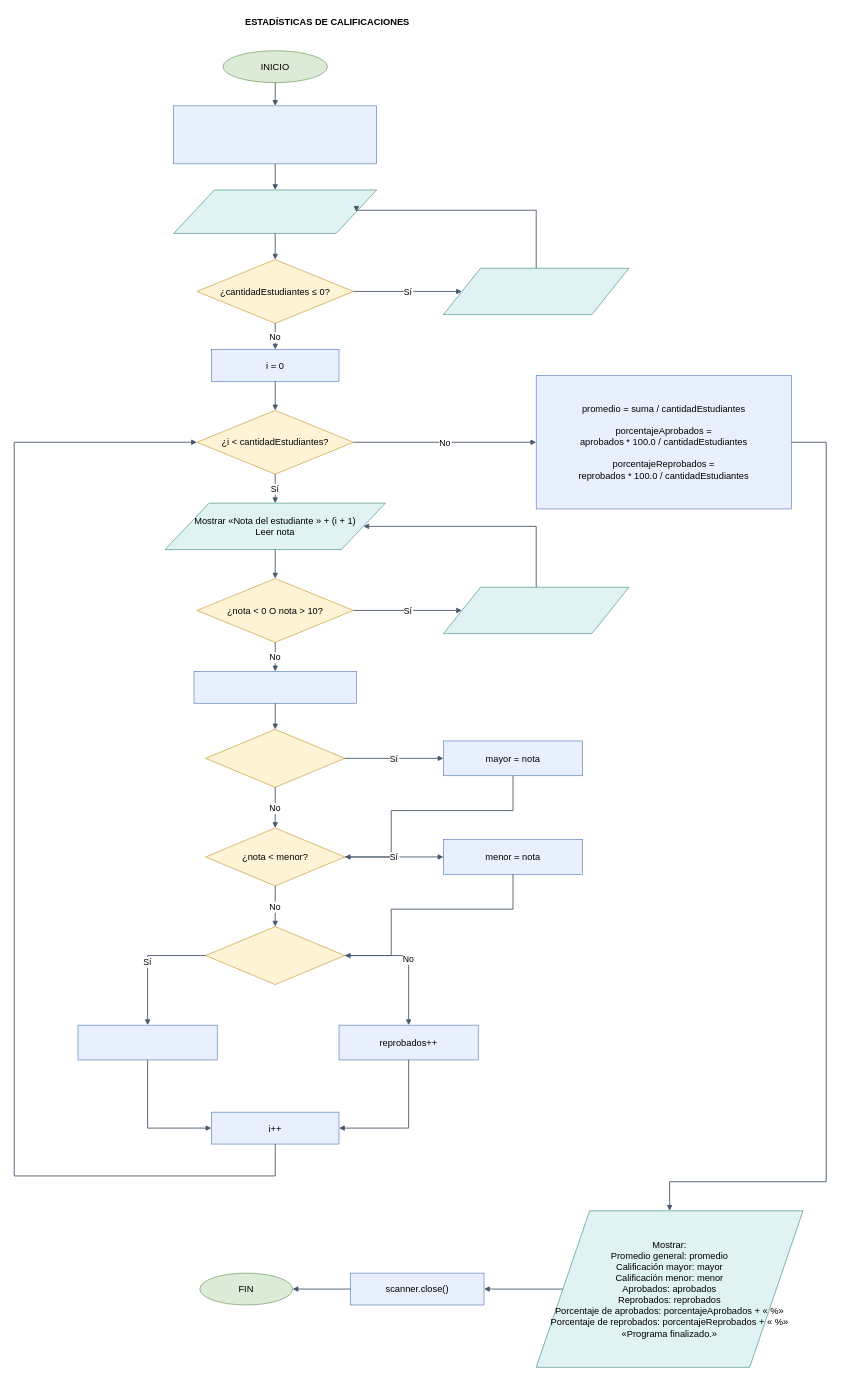
This 842x1378 diagram has some shape labels left out. The centre of each missing label's shape, as x and y in pixels:
aprobados++: pixel 147 1042
Crear Scanner aprobados = 0; reprobados = 0 suma = 0; mayor = 0; menor = 10: pixel 275 134
Mostrar «Cantidad de estudiantes» Leer cantidadEstudiantes: pixel 275 211
Mostrar «La cantidad debe ser mayor que cero.»: pixel 536 291
Mostrar «La nota debe estar entre 0 y 10.»: pixel 536 610
suma = suma + nota: pixel 274 687
¿nota > mayor?: pixel 275 758
¿nota ≥ 7?: pixel 275 955
